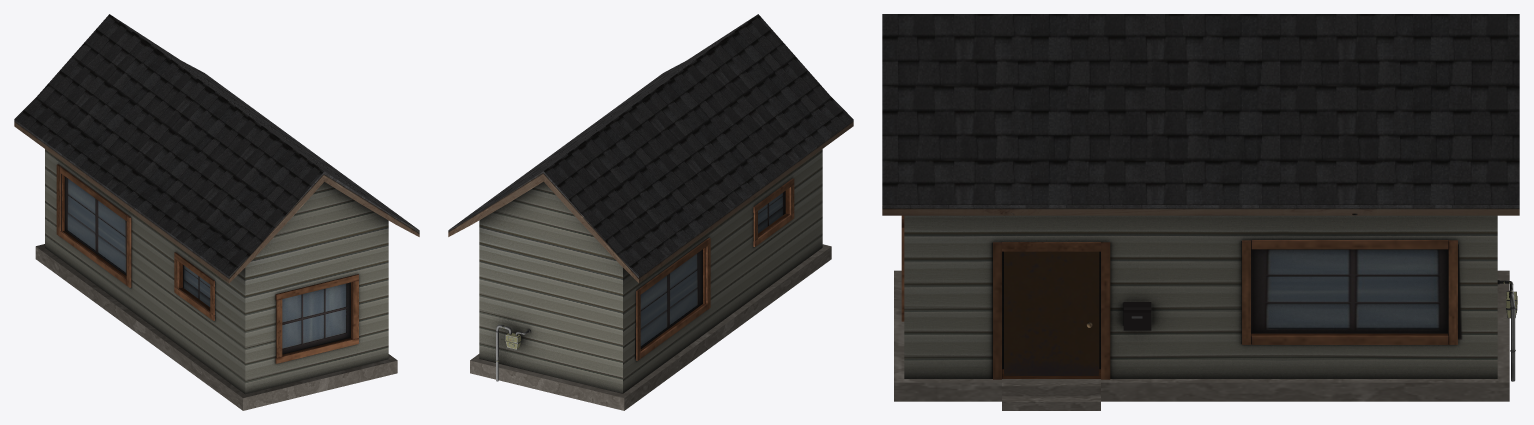
The model's file is House1.obj.
The picture shows the model from 3 angles, left to right: view 1: azimuth 30°, elevation 25°; view 2: azimuth 150°, elevation 25°; view 3: azimuth 270°, elevation 25°; orthographic projection. The views are drawn at different scales.
Parts seen in each view (by area): view 1: obj1; view 2: obj1; view 3: obj1.
Part boxes in pixels (<box>): obj1: <box>14,14,419,410</box>; obj1: <box>448,14,853,410</box>; obj1: <box>882,14,1519,410</box>.
Bounding box in the file's own units: 6.59 × 7.39 × 12.87.
